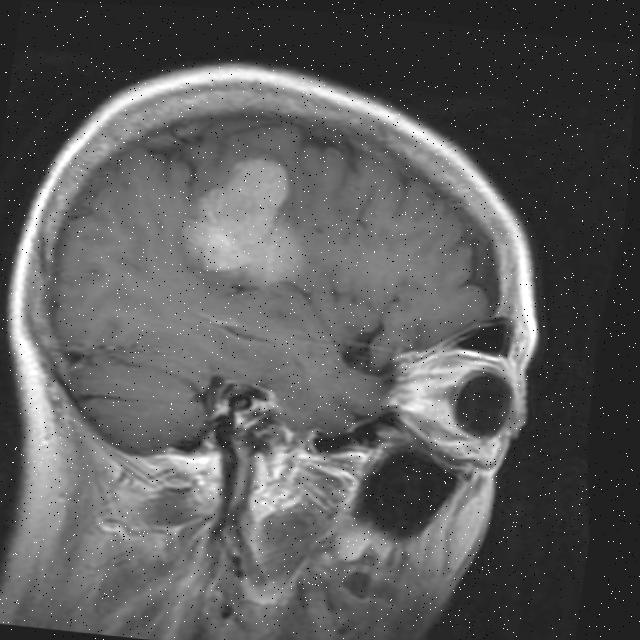Meningioma: (173, 148, 321, 295)
